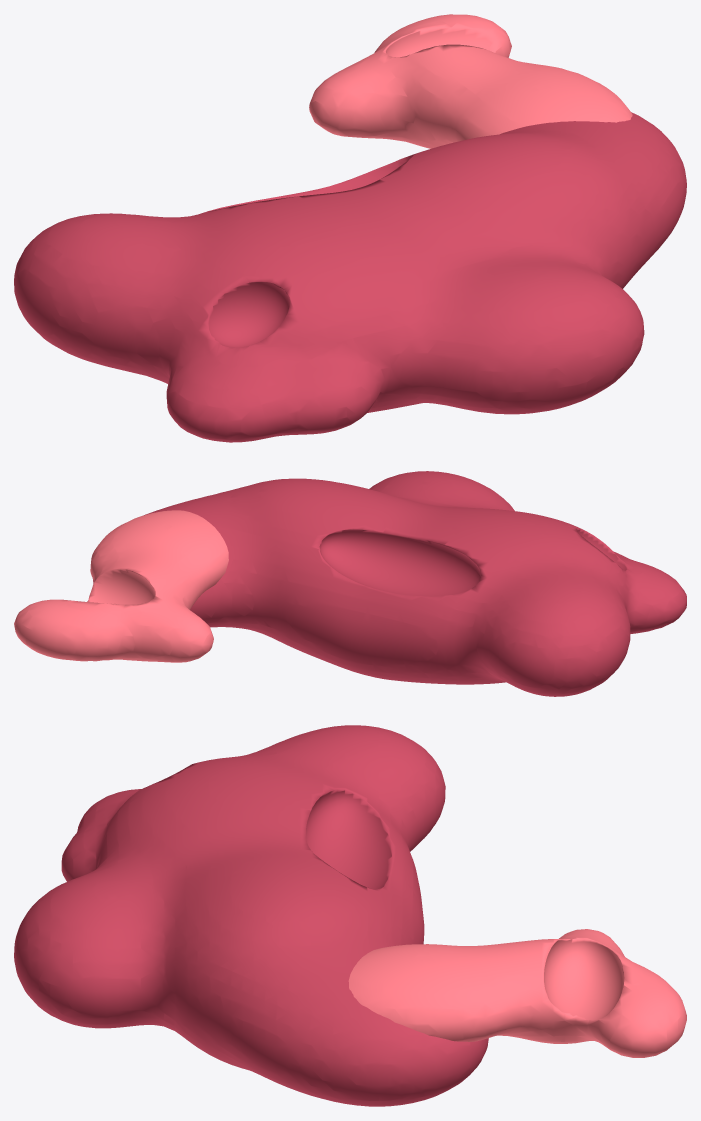
File: pol2-preview.glb
3 renders of one model, top to bottom at view 1: azimuth 30°, elevation 25°; view 2: azimuth 150°, elevation 25°; view 3: azimuth 270°, elevation 25°, orthographic. The views are drawn at different scales.
Parts seen in each view (by area): view 1: Pol II • корпус.001, Pol II • зажим.001; view 2: Pol II • корпус.001, Pol II • зажим.001; view 3: Pol II • корпус.001, Pol II • зажим.001.
Part boxes in pixels (box(x1,y1,x2,y2)): Pol II • корпус.001: box(14, 112, 686, 442); Pol II • зажим.001: box(309, 14, 632, 148); Pol II • корпус.001: box(93, 471, 686, 696); Pol II • зажим.001: box(14, 510, 228, 662); Pol II • корпус.001: box(14, 725, 488, 1106); Pol II • зажим.001: box(348, 929, 686, 1057).
Bounding box in the file's own units: 5.99 × 1.73 × 5.64.
